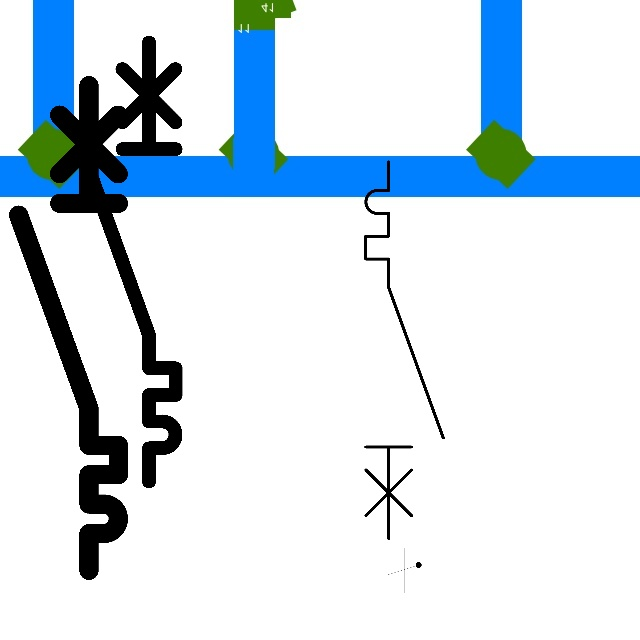interruptor_termomagnetico: (6, 73, 131, 583), (74, 31, 187, 493), (356, 152, 453, 548)
